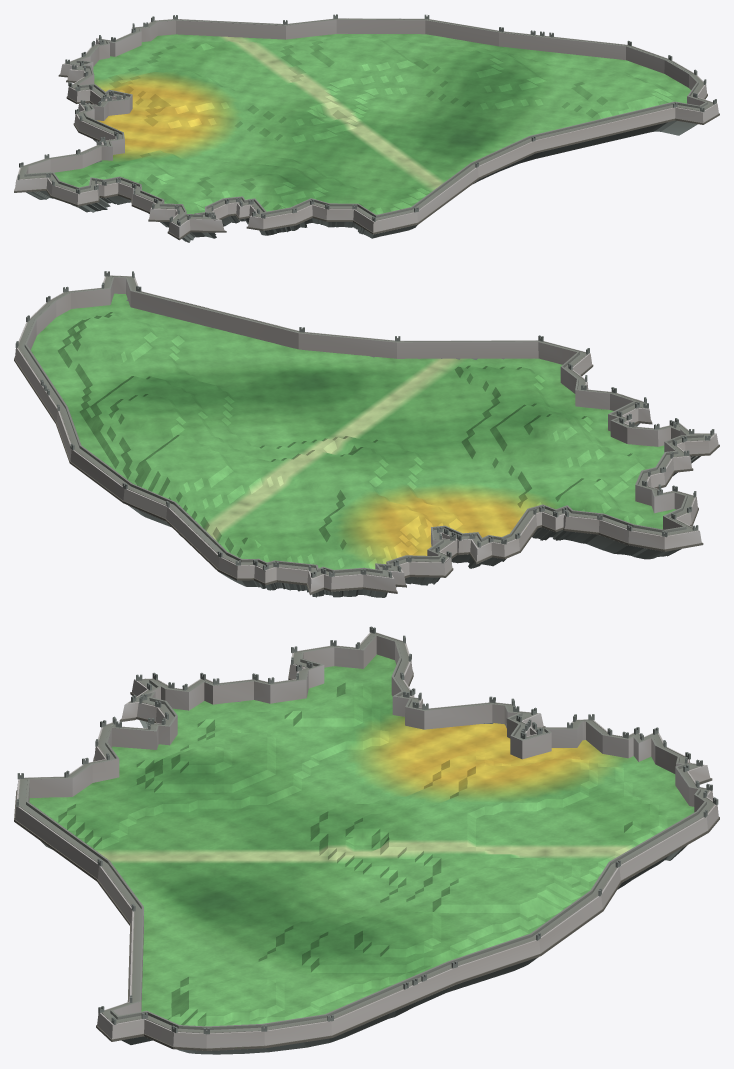
The picture shows the model from 3 angles, top to bottom: view 1: azimuth 30°, elevation 25°; view 2: azimuth 150°, elevation 25°; view 3: azimuth 270°, elevation 25°; orthographic projection. The views are drawn at different scales.
Visible parts, largest first — view 1: ground_d43ad24e; view 2: ground_d43ad24e; view 3: ground_d43ad24e.
Part boxes in pixels (x1,y1,x2,y2): ground_d43ad24e: (14, 14, 719, 242); ground_d43ad24e: (14, 271, 719, 597); ground_d43ad24e: (14, 626, 719, 1054).
Bounding box in the file's own units: 166 × 7.61 × 122.
3 materials, 1 textured.
